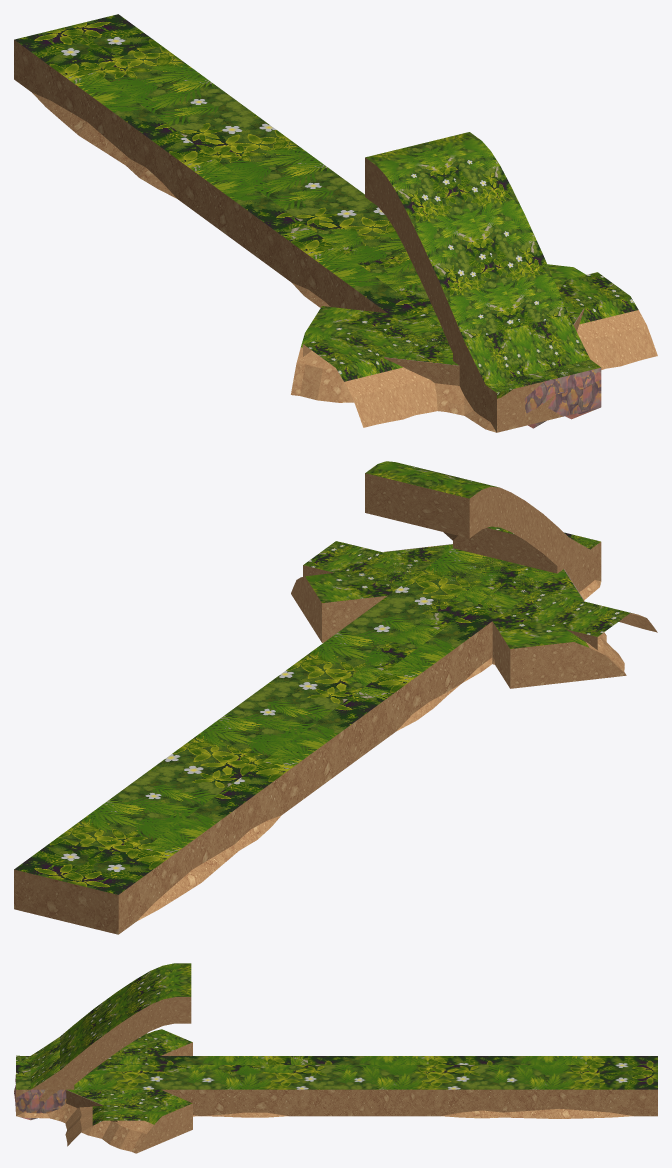
The model's file is ModKit_V6.fbx.
3 views of the same model, one above another, from view 1: azimuth 30°, elevation 25°; view 2: azimuth 150°, elevation 25°; view 3: azimuth 270°, elevation 25° (orthographic). The views are drawn at different scales.
Visible parts, largest first — view 1: 4x40Slope L, 4x40 square001, Slope Up HIGH L, Slope Up HIGH R, 90 Deg Curve L, 90 Deg Curve R, 45 Deg Inwards R, 4X4 SlopeUP L, 4x40Slope R, 4x20Slope L, 4x20 square, Island Outside Connectors (+2 smaller); view 2: 4x40 square001, 4x40Slope L, 45 Deg Inwards R, Slope Up HIGH L, 45 Deg Inwards L, 4x20 square, 4x40Slope R, 4x20Slope L, 90 Deg Curve L, Slope Up HIGH R, 90 Deg Curve R, 4X4 SlopeUP L (+3 smaller); view 3: 4x40 square001, 4x40Slope L, Slope Up HIGH R, 45 Deg Inwards L, 4x20Slope R, 4x40Slope R, Slope Up HIGH L, 90 Deg Curve L, 4x20 square, 45 Deg Inwards R, 4X4 SlopeUP R, 4X4 SlopeUP L (+5 smaller).
Boxes of the visible parts, left/top/right/bottom form: 4x40Slope L: left=14, top=26, right=503, bottom=410; 4x40 square001: left=86, top=46, right=600, bottom=420; Slope Up HIGH L: left=365, top=143, right=520, bottom=404; Slope Up HIGH R: left=415, top=132, right=589, bottom=373; 90 Deg Curve L: left=398, top=272, right=657, bottom=432; 90 Deg Curve R: left=303, top=321, right=447, bottom=427; 45 Deg Inwards R: left=291, top=306, right=496, bottom=432; 4X4 SlopeUP L: left=453, top=326, right=553, bottom=429; 4x40Slope R: left=32, top=14, right=522, bottom=432; 4x20Slope L: left=277, top=225, right=491, bottom=422; 4x20 square: left=306, top=225, right=569, bottom=425; Island Outside Connectors: left=525, top=367, right=601, bottom=418; 4x40 square001: left=58, top=548, right=517, bottom=855; 4x40Slope L: left=14, top=541, right=596, bottom=934; 45 Deg Inwards R: left=465, top=569, right=626, bottom=688; Slope Up HIGH L: left=413, top=473, right=567, bottom=565; 45 Deg Inwards L: left=291, top=557, right=523, bottom=642; 4x20 square: left=339, top=532, right=572, bottom=695; 4x40Slope R: left=14, top=658, right=492, bottom=922; 4x20Slope L: left=354, top=549, right=594, bottom=741; 90 Deg Curve L: left=303, top=541, right=595, bottom=613; Slope Up HIGH R: left=365, top=461, right=468, bottom=538; 90 Deg Curve R: left=490, top=578, right=657, bottom=649; 4X4 SlopeUP L: left=473, top=529, right=600, bottom=584; 4x40 square001: left=16, top=1065, right=599, bottom=1116; 4x40Slope L: left=147, top=1056, right=657, bottom=1118; Slope Up HIGH R: left=60, top=978, right=191, bottom=1084; 45 Deg Inwards L: left=16, top=1074, right=192, bottom=1153; 4x20Slope R: left=161, top=1089, right=297, bottom=1116; 4x40Slope R: left=23, top=1074, right=657, bottom=1116; Slope Up HIGH L: left=60, top=963, right=191, bottom=1054; 90 Deg Curve L: left=65, top=1056, right=147, bottom=1146; 4x20 square: left=16, top=1065, right=307, bottom=1078; 45 Deg Inwards R: left=90, top=1029, right=192, bottom=1078; 4X4 SlopeUP R: left=30, top=1055, right=74, bottom=1089; 4X4 SlopeUP L: left=16, top=1037, right=59, bottom=1073.
Size of the model in its own units: 696 by 385 by 1738.
